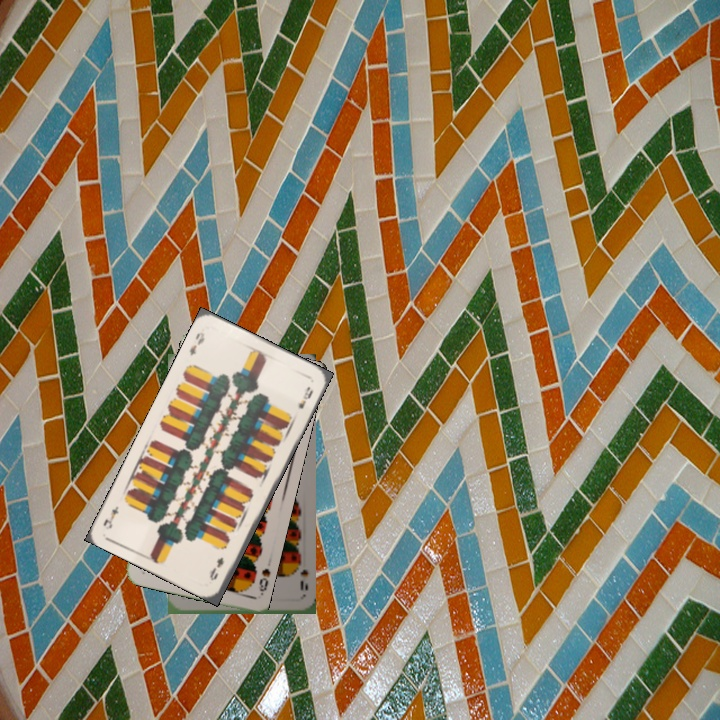E9: (185, 328, 207, 358), (206, 553, 226, 583)
S8: (255, 564, 273, 598)
S9: (292, 557, 311, 593)
